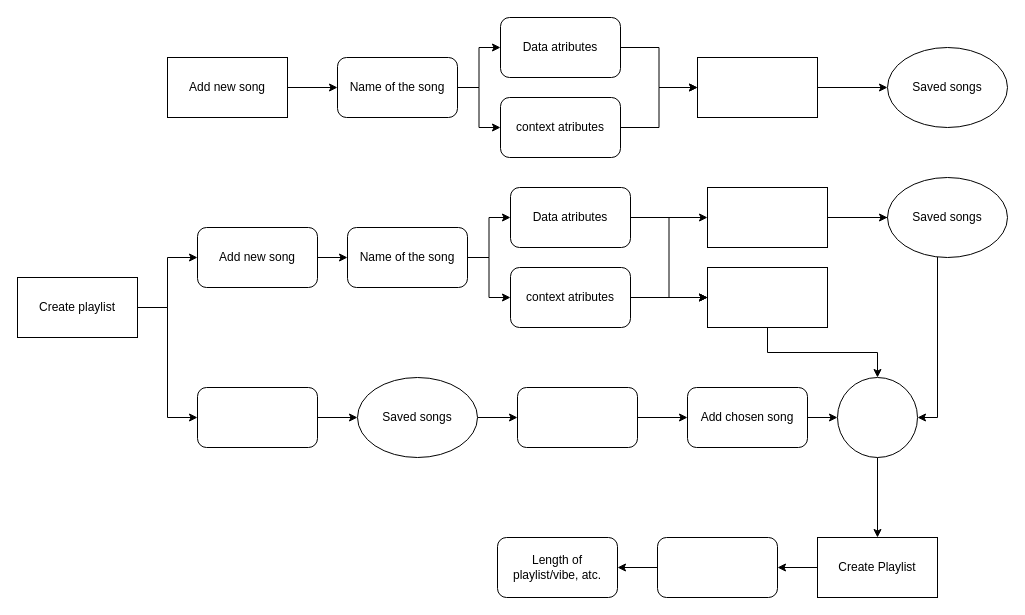
The diagram is 1025 pixels wide and 615 high, and some of its shapes have lost their labels. Here are the shapes that lost their labels. From the top down, the centre of each, then its label:
[757,87]: Save song
[767,217]: Save and add to playlist stack
[767,297]: Add to playlist stack
[257,417]: Add existing song
[577,417]: List of saved songs
[877,417]: Stack of songs
[717,567]: Perfect queue of songs
